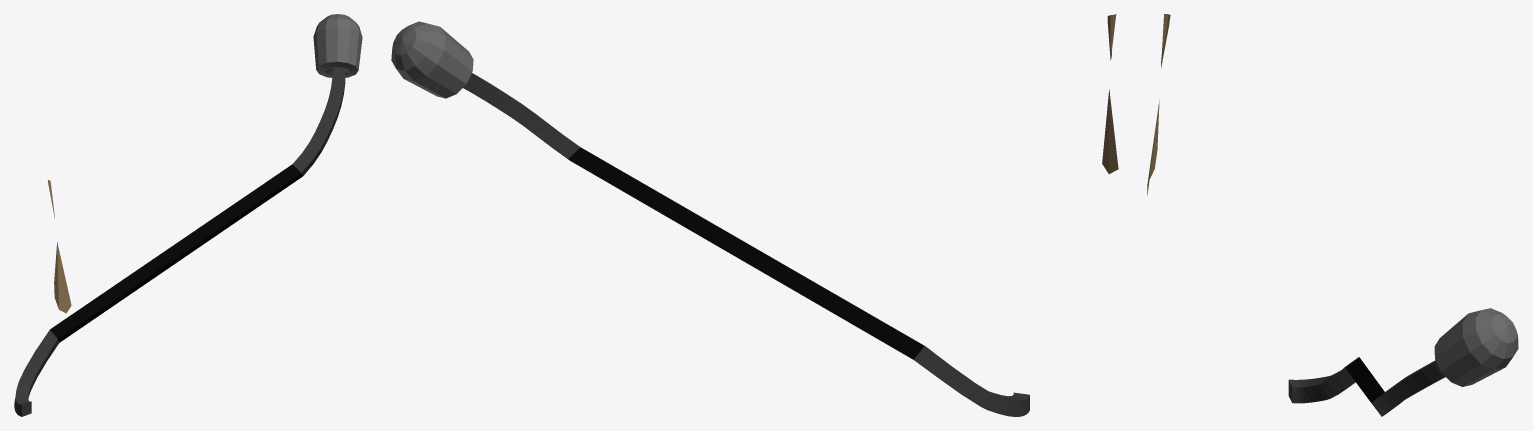
Rendered from microphone.fbx.
3 views of the same model, side by side, from view 1: azimuth 30°, elevation 25°; view 2: azimuth 150°, elevation 25°; view 3: azimuth 270°, elevation 25° (orthographic). The views are drawn at different scales.
Parts seen in each view (by area): view 1: imagetostl_mesh0, imagetostl_mesh1; view 2: imagetostl_mesh0, imagetostl_mesh1; view 3: imagetostl_mesh0, imagetostl_mesh1.
Boxes of the visible parts, x1,y1,x2,y2 form: imagetostl_mesh0: (14, 14, 362, 416); imagetostl_mesh1: (54, 242, 71, 313); imagetostl_mesh0: (391, 21, 1029, 416); imagetostl_mesh1: (1102, 89, 1118, 173); imagetostl_mesh0: (1288, 308, 1518, 416); imagetostl_mesh1: (1147, 99, 1159, 195).
Bounding box in the file's own units: 54.35 × 33.07 × 30.07.
